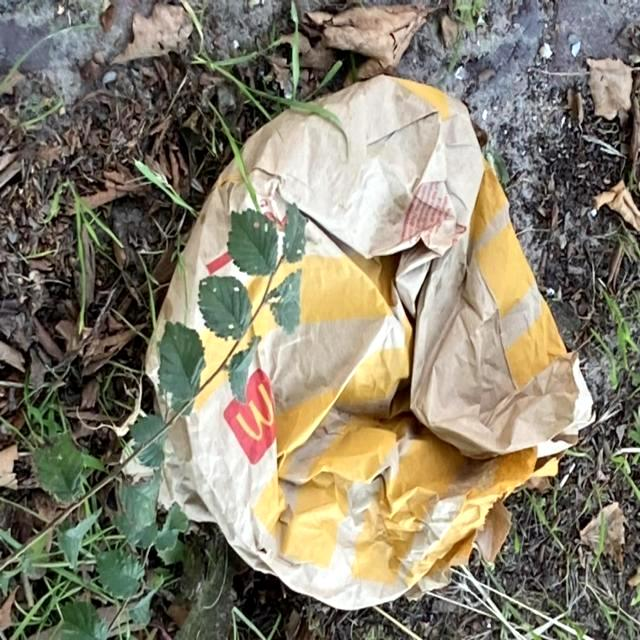Paper: (136, 72, 596, 614)
